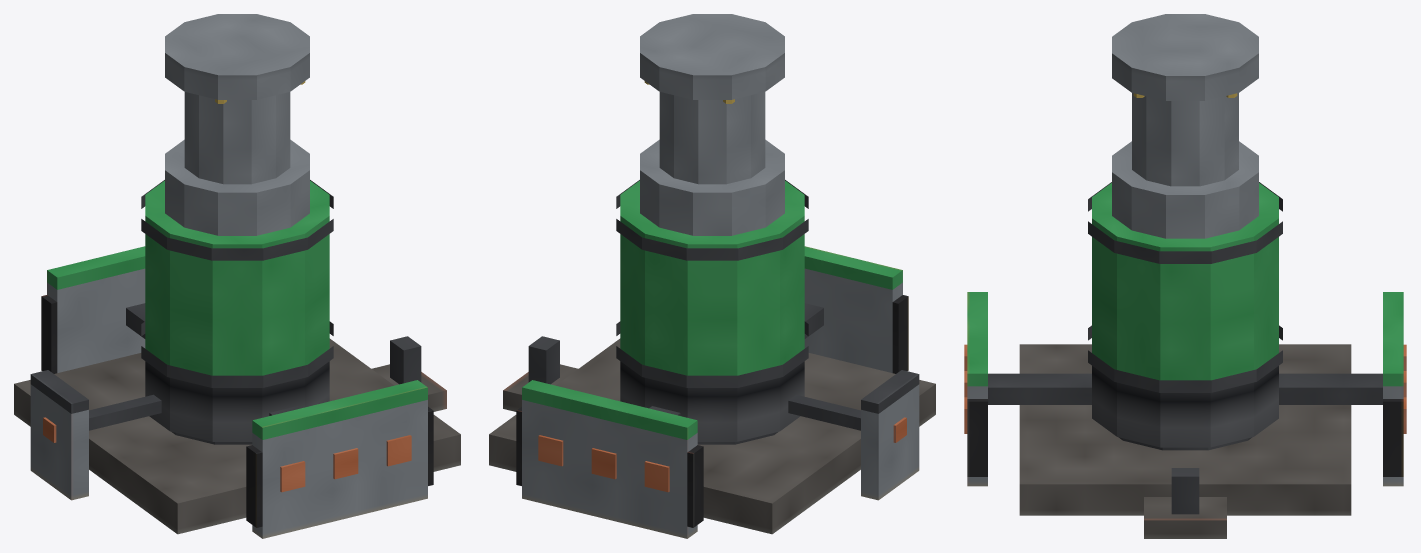
The model's file is submersiblepump50v.obj.
3 views of the same model, side by side, from view 1: azimuth 30°, elevation 25°; view 2: azimuth 150°, elevation 25°; view 3: azimuth 270°, elevation 25° (orthographic).
Parts seen in each view (by area): view 1: main; view 2: main; view 3: main.
Part boxes in pixels (x1,y1,x2,y2): main: [14, 14, 460, 538]; main: [489, 14, 935, 538]; main: [964, 14, 1406, 538].
Bounding box in the file's own units: 1 × 1 × 1.
Materials: 1 (1 with a texture image).
